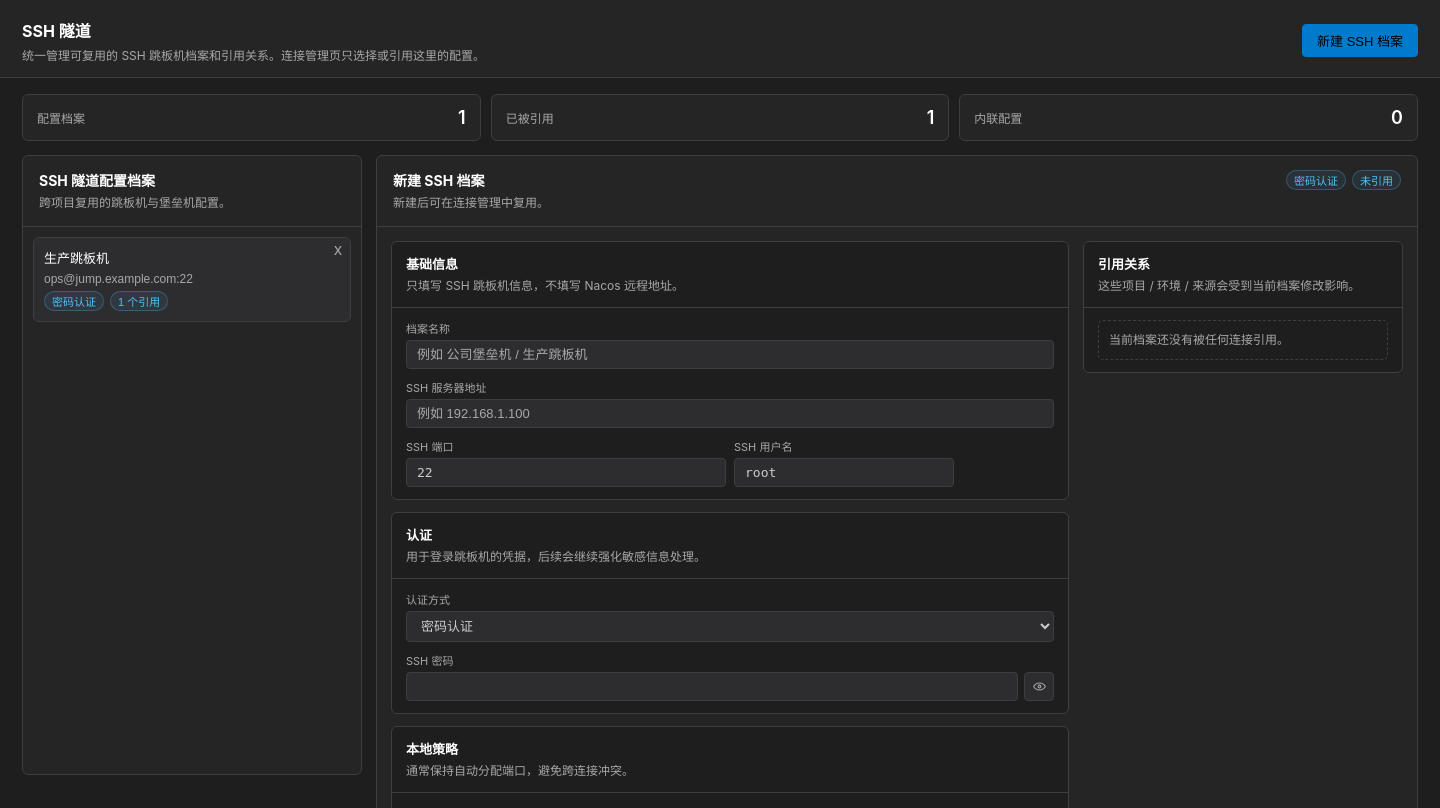
Test: SSHManagerView › blocks deleting SSH profiles referenced by connections
Click the button titled "删除" at (338, 250), box [326,238,350,262]
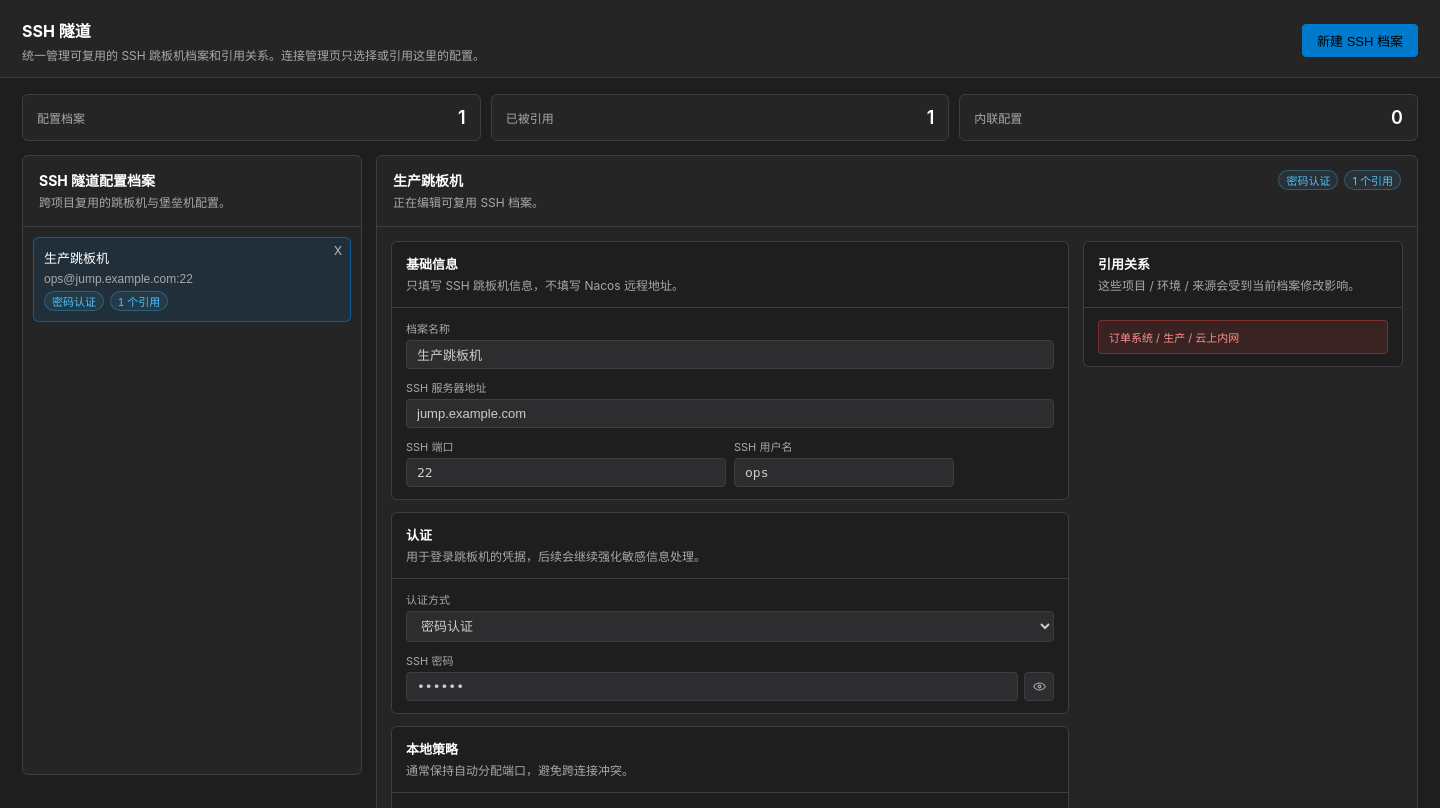
expect the text "订单系统 / 生产 / 云上内网" is shown: met, box [1109,331,1239,345]
